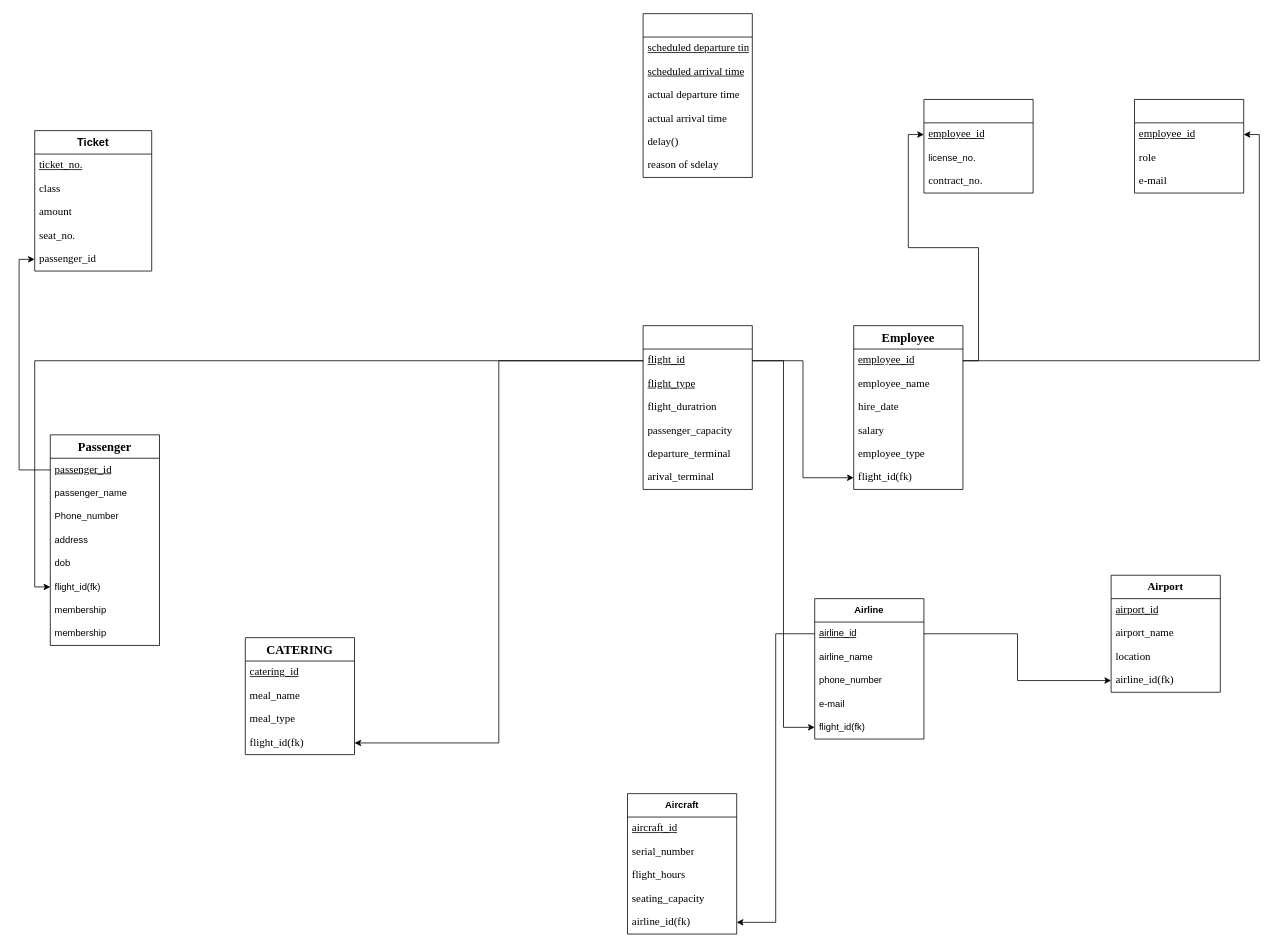
Some shapes in this 1279 by 948 pixel diagram are drawn without their labels. The box of each missing label's shape, as (x1, y1, x2, y2) in pixels:
Crew: (1134, 99, 1244, 193)
Flight_info: (642, 325, 752, 489)
Flight_status: (642, 13, 752, 177)
Pilot: (923, 99, 1033, 193)
